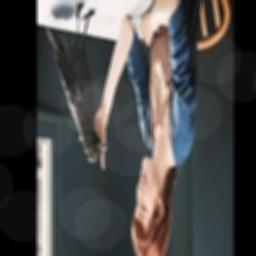Crow: (46, 1, 108, 160)
